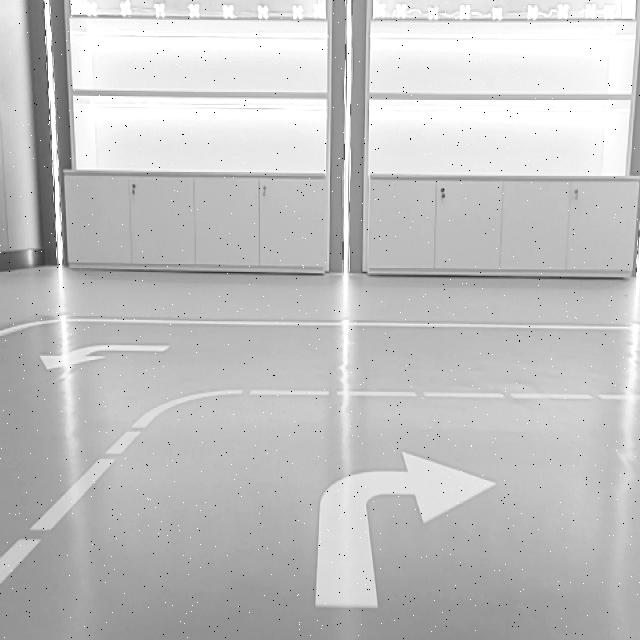left_lane: (0, 407, 160, 590)
